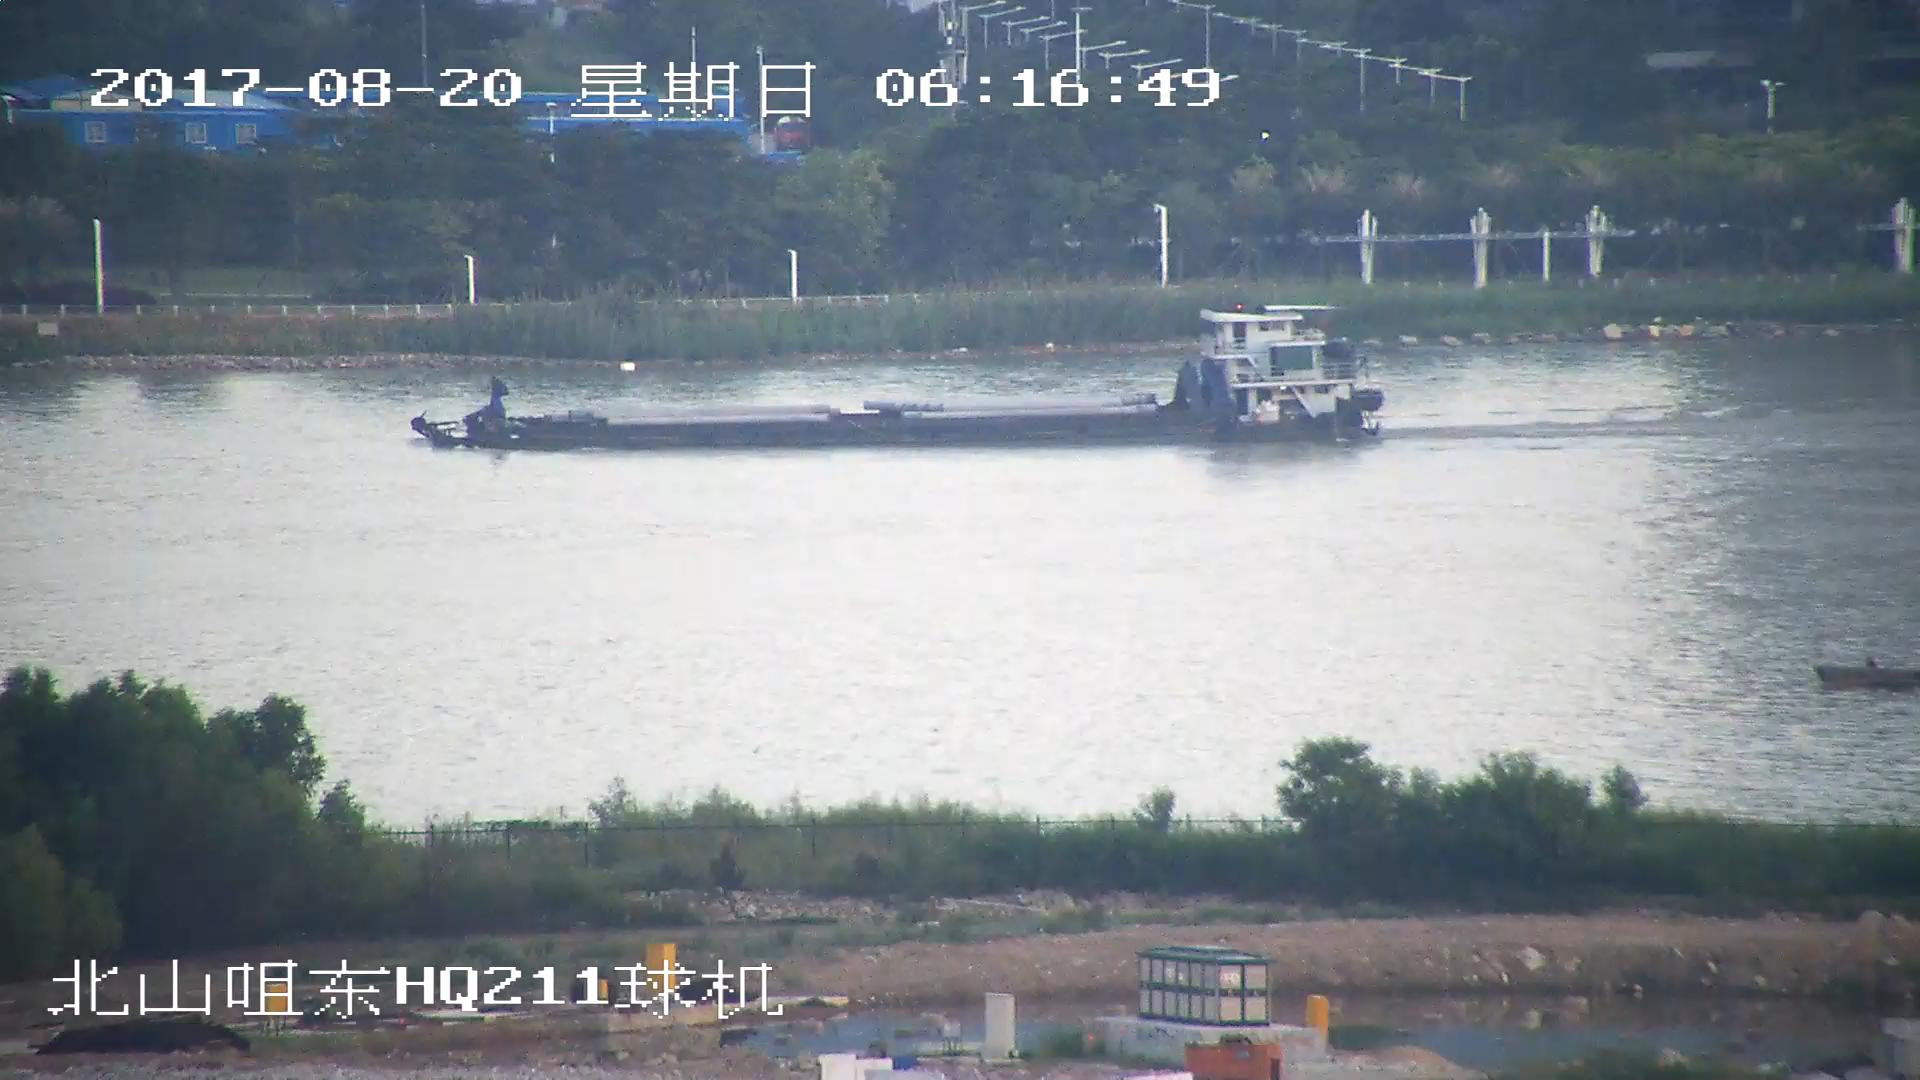bulk cargo carrier: (414, 308, 1385, 443)
